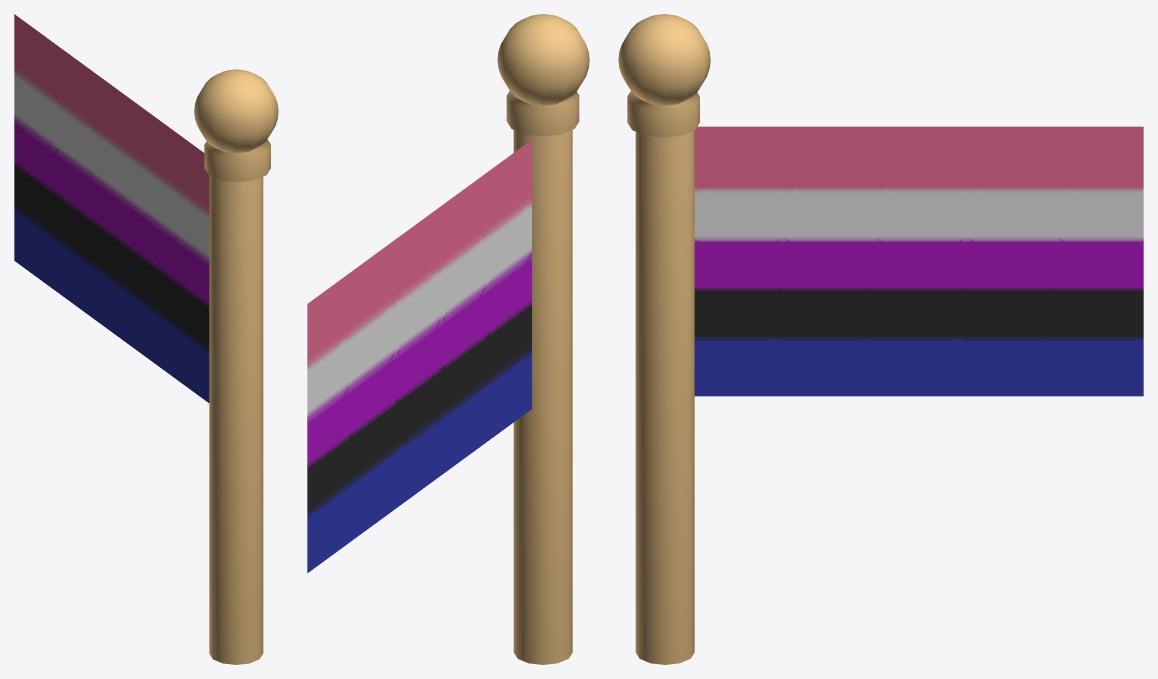
The model's file is genderfluid_flag.glb.
3 views of the same model, side by side, from view 1: azimuth 30°, elevation 25°; view 2: azimuth 150°, elevation 25°; view 3: azimuth 270°, elevation 25° (orthographic). The views are drawn at different scales.
Visible parts, largest first — view 1: GenderFluid; view 2: GenderFluid; view 3: GenderFluid.
Boxes of the visible parts, bbox=[...] form: GenderFluid: bbox=[14, 14, 278, 664]; GenderFluid: bbox=[307, 14, 589, 664]; GenderFluid: bbox=[618, 14, 1143, 664].
Bounding box in the file's own units: 0.4603 × 3.49 × 2.62.
Materials: 2 (1 with a texture image).
